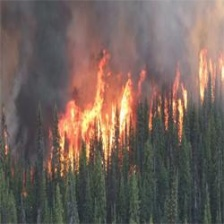fire: (37, 38, 224, 172)
smoke: (1, 6, 80, 117), (113, 3, 192, 67)
